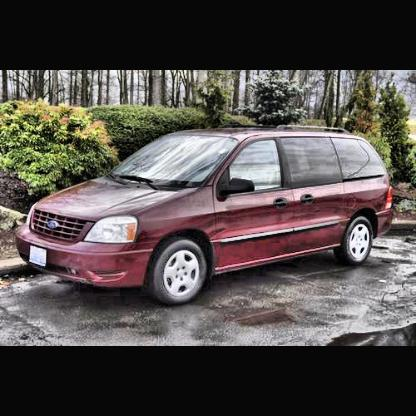Ford Freestar Minivan 2007: (13, 128, 399, 311)
